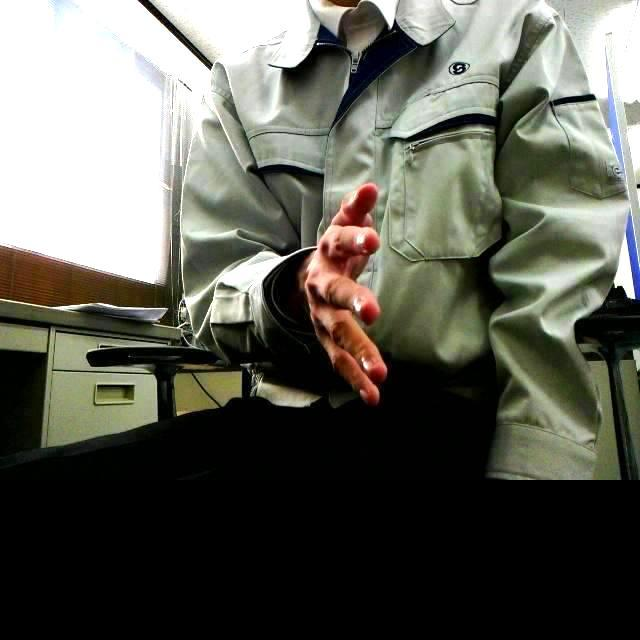pa-: (305, 180, 388, 407)
